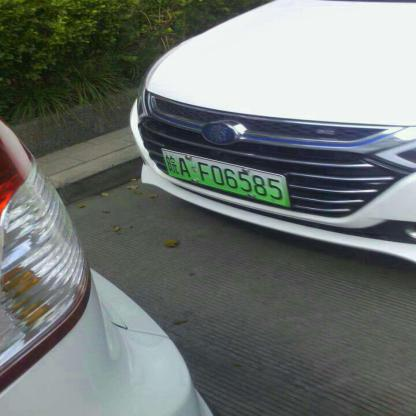lp: (164, 150, 286, 205)
